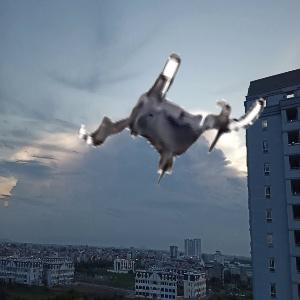drone: (79, 31, 262, 214)
